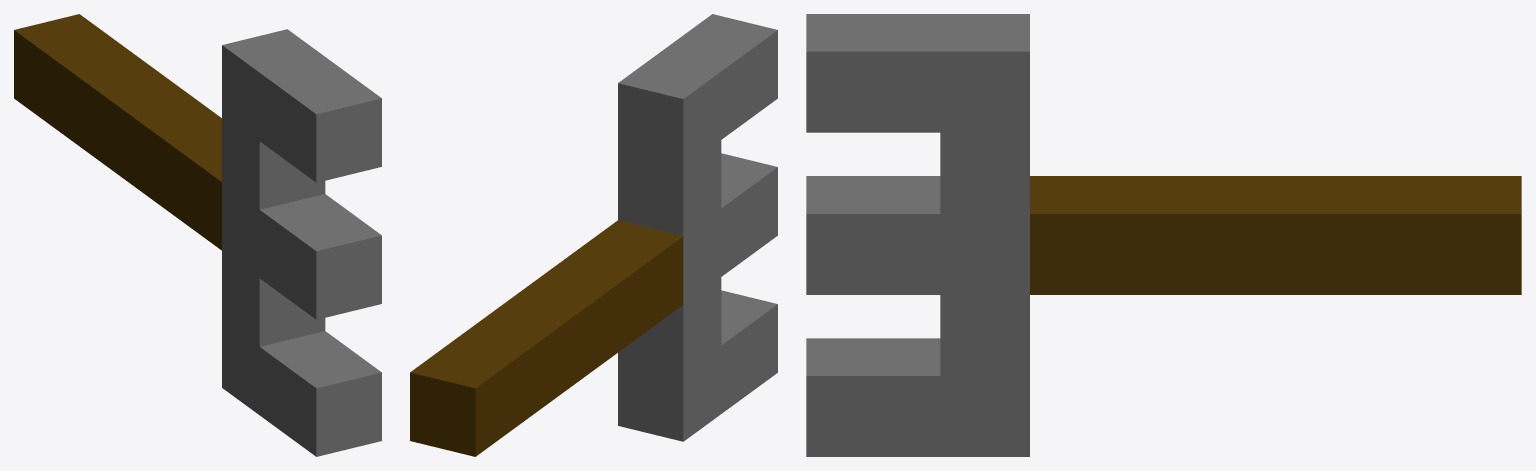
Rendered from trident.obj.
3 views of the same model, side by side, from view 1: azimuth 30°, elevation 25°; view 2: azimuth 150°, elevation 25°; view 3: azimuth 270°, elevation 25° (orthographic). The views are drawn at different scales.
Bounding box in the file's own units: 0.2 × 1 × 1.6.
1 material, 1 textured.
